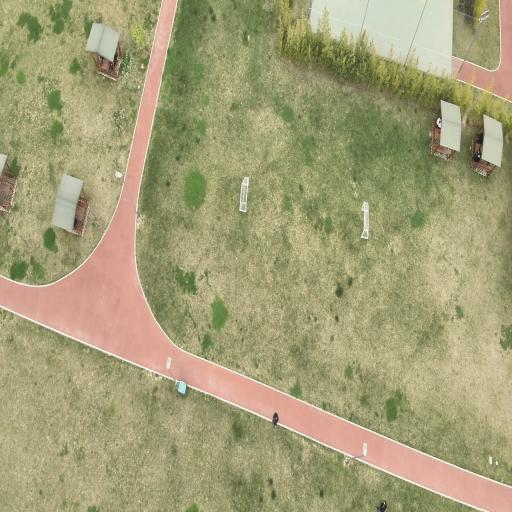person: (375, 501, 386, 511), (474, 147, 481, 162), (477, 133, 483, 144), (273, 412, 278, 425), (436, 117, 441, 128), (114, 52, 117, 66), (99, 55, 104, 63)
